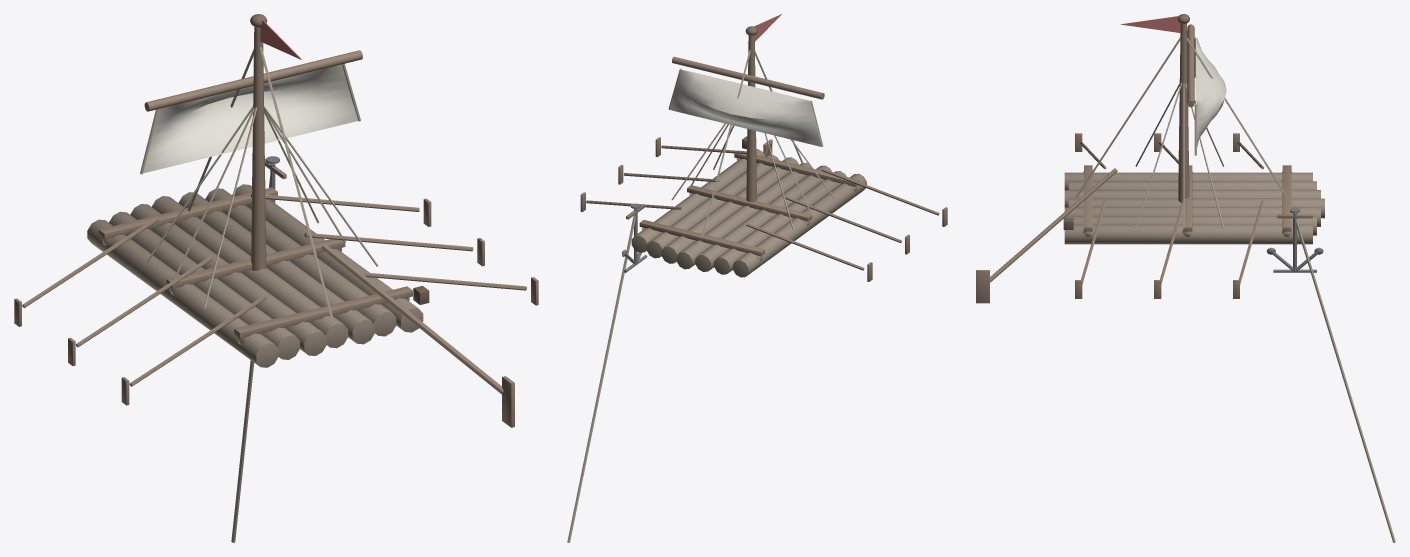
File: ship_raft.gltf
3 views of the same model, side by side, from view 1: azimuth 30°, elevation 25°; view 2: azimuth 150°, elevation 25°; view 3: azimuth 270°, elevation 25° (orthographic). The views are drawn at different scales.
Parts seen in each view (by area): view 1: Body, Sail, OarsR, OarsL, Wheel, Yard, AnchorRope; view 2: Body, Sail, OarsL, OarsR, Yard, AnchorRope, Anchor; view 3: Body, Sail, OarsR, Wheel, AnchorRope, Anchor, OarsL, Yard, Pennant.
Part boxes in pixels (box(x1,y1,x2,y2)): Body: box(87, 14, 429, 367); Sail: box(140, 63, 360, 174); OarsR: box(251, 194, 538, 305); OarsL: box(14, 216, 266, 405); Wheel: box(321, 243, 514, 427); Yard: box(144, 50, 362, 111); AnchorRope: box(231, 176, 270, 542); Body: box(631, 26, 866, 277); Sail: box(668, 68, 823, 146); OarsL: box(746, 168, 947, 281); OarsR: box(580, 137, 757, 211); Yard: box(672, 56, 824, 99); AnchorRope: box(567, 214, 635, 542); Anchor: box(622, 203, 647, 272); Body: box(1063, 14, 1324, 244); Sail: box(1194, 37, 1226, 155); OarsR: box(1075, 200, 1263, 298); Wheel: box(976, 168, 1117, 303); AnchorRope: box(1295, 218, 1395, 542); Anchor: box(1266, 207, 1323, 272); OarsL: box(1075, 133, 1263, 169); Yard: box(1187, 24, 1194, 107); Pennant: box(1120, 16, 1180, 32).
Size of the model in its own units: 8.8 by 13.48 by 10.56.
